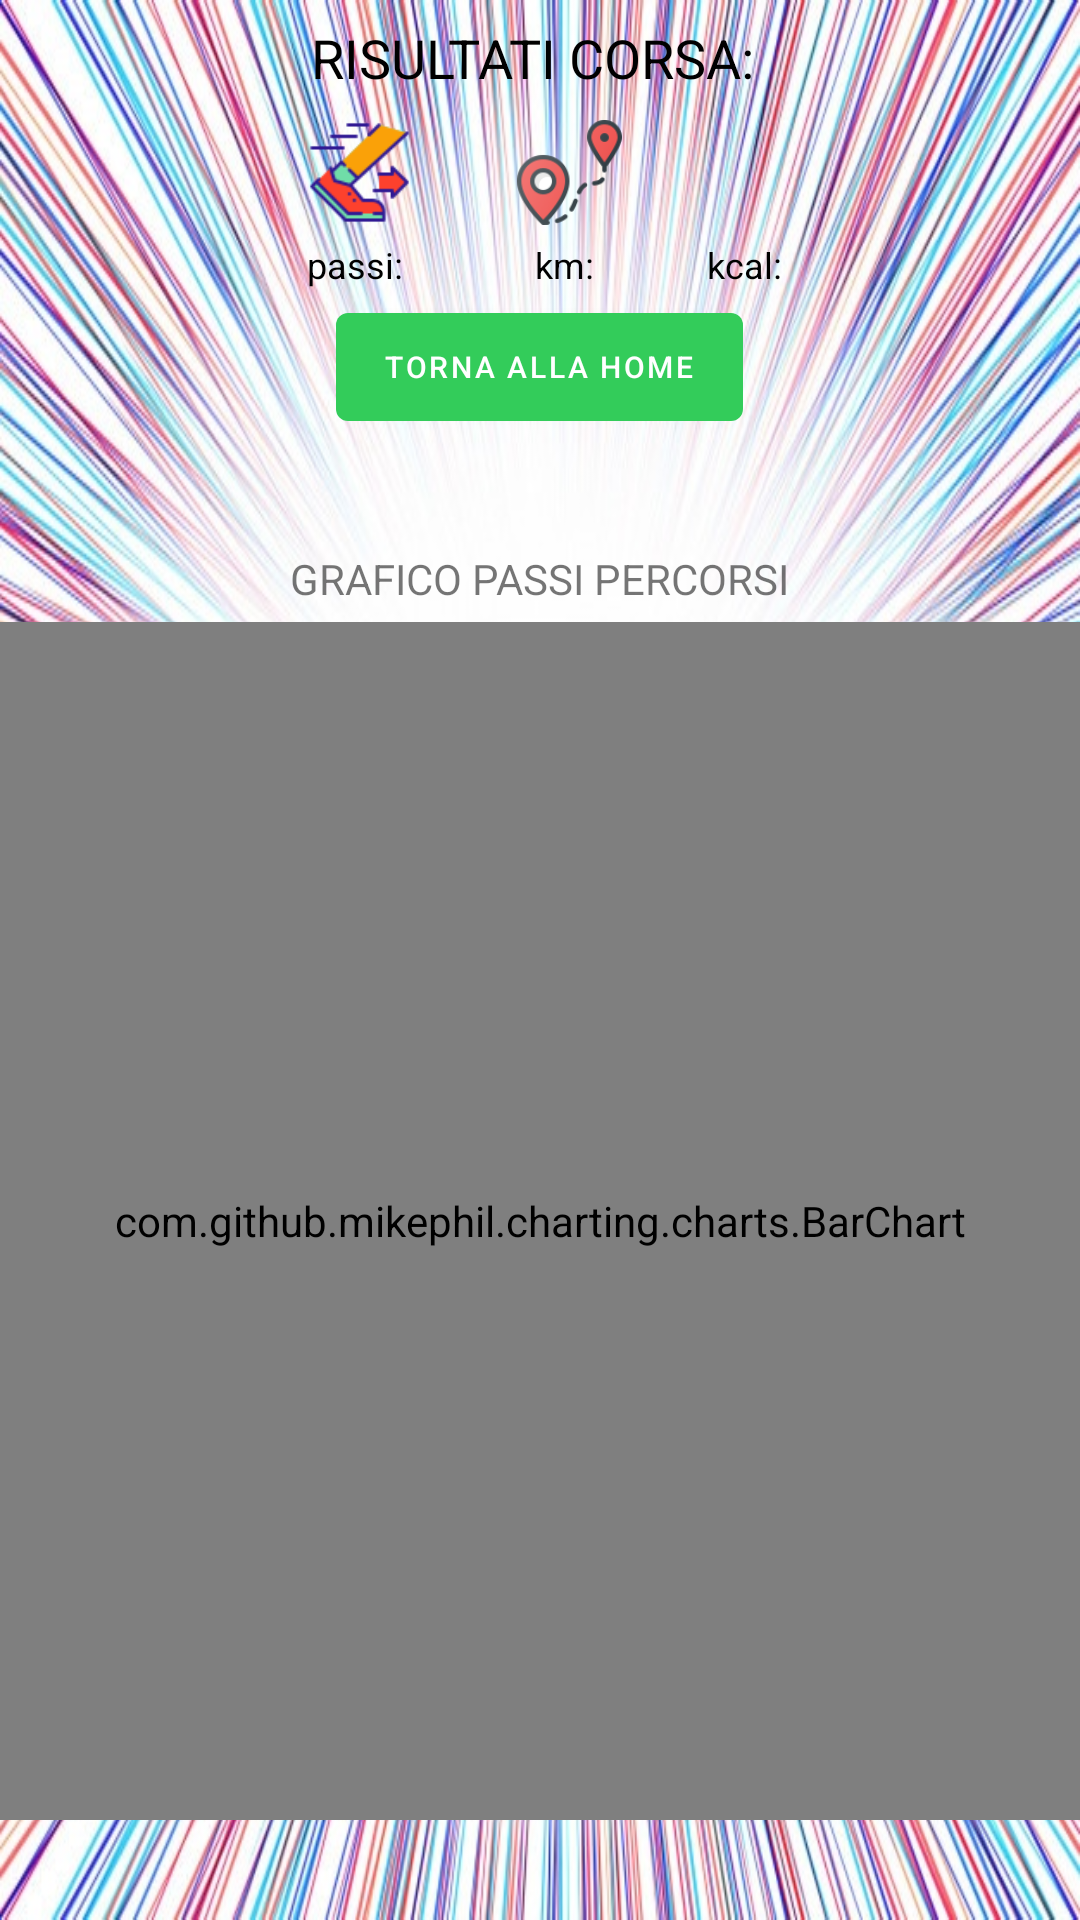

Screen size 1080 × 1920. Icon name, then its center in pixels as [x,y]:
distance: [569,172]
running: [359,172]
